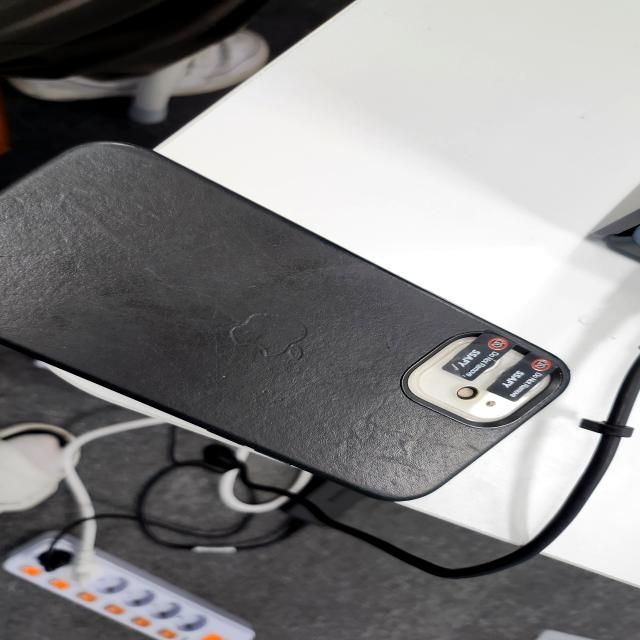phone: (0, 137, 570, 501)
sticker: (484, 352, 564, 403), (443, 331, 515, 379)
